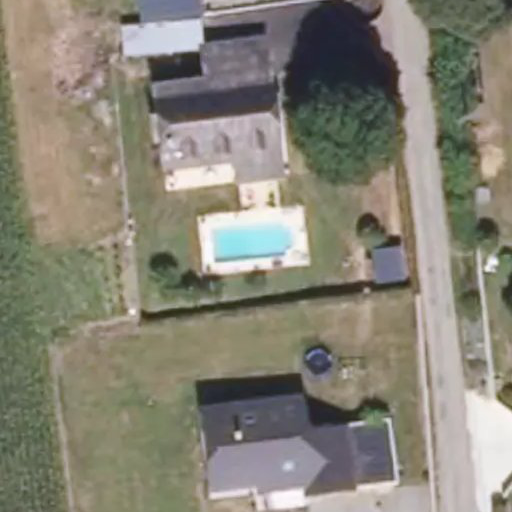pool: (211, 228, 301, 254)
